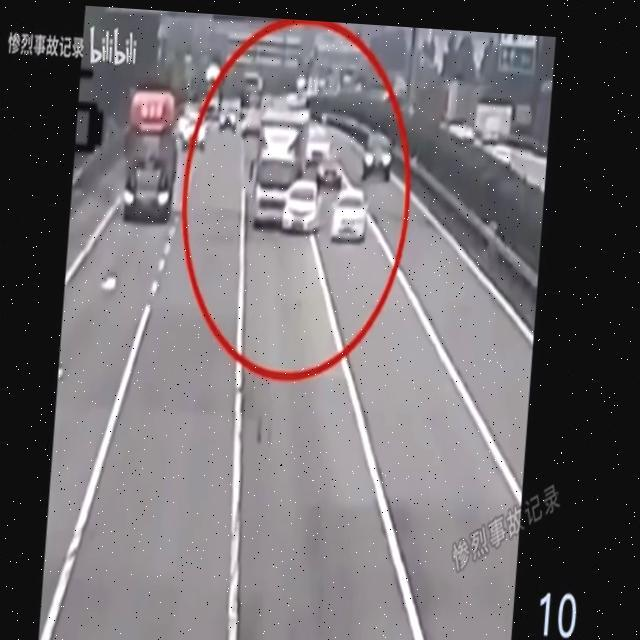multiple_accident: (244, 94, 323, 240)
normal: (107, 71, 197, 261), (333, 183, 379, 259), (363, 130, 397, 181)
